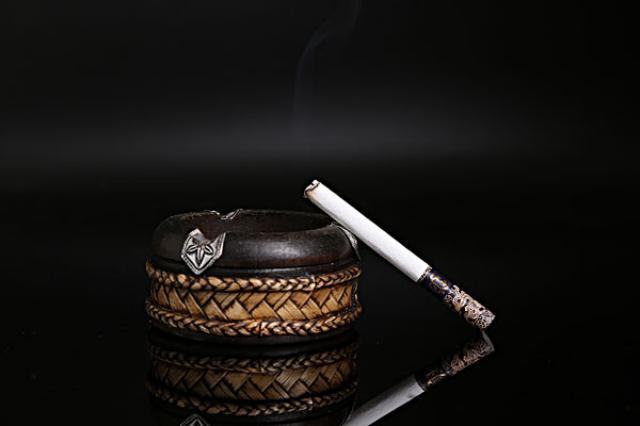Smoking: (299, 173, 499, 333), (303, 335, 511, 425)
